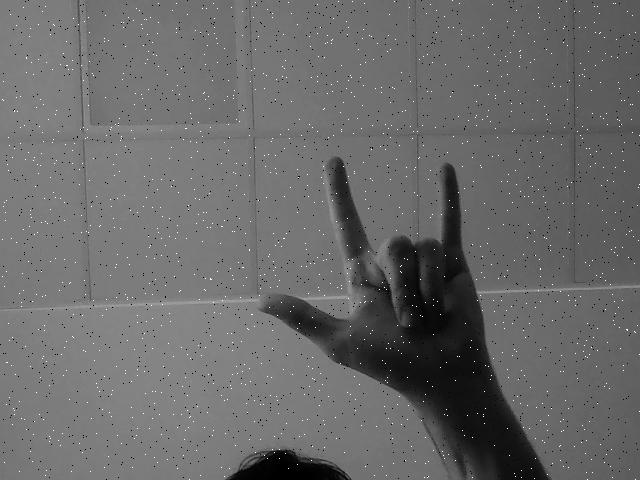I_Love_You: (295, 156, 535, 390)
